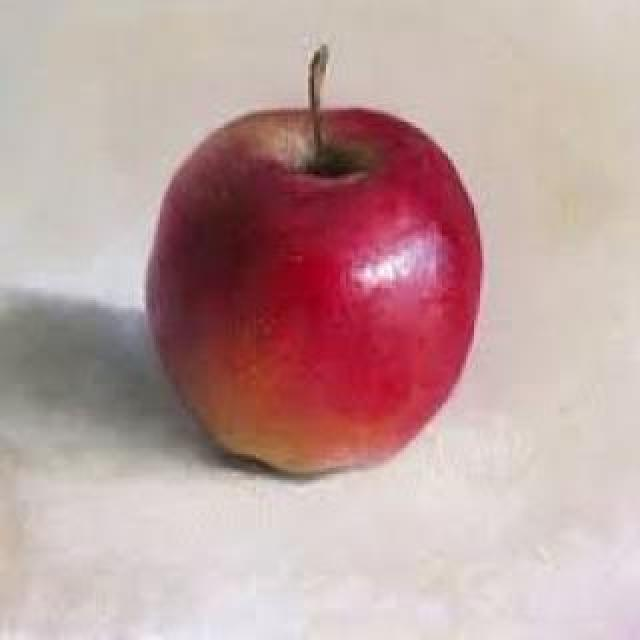Fresh Apple: (142, 103, 486, 485)
